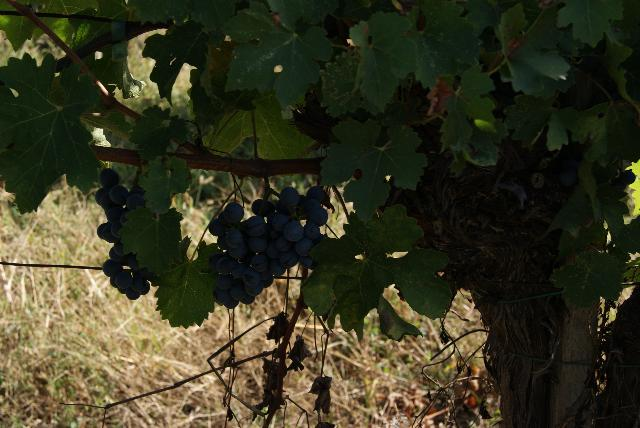grapes: (209, 186, 328, 309), (95, 169, 155, 300)
